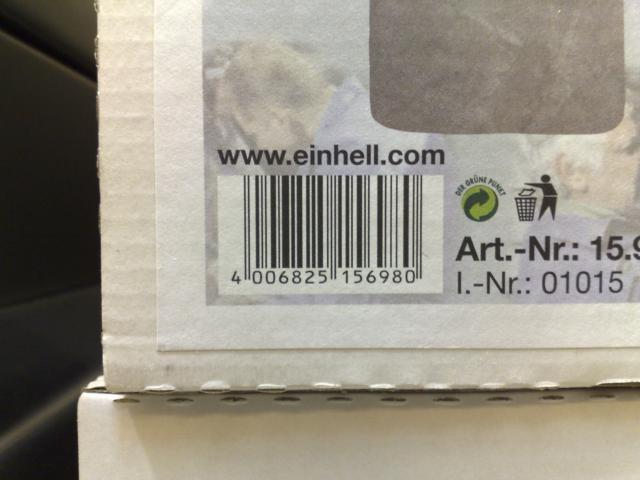Barcode: (223, 173, 428, 293)
